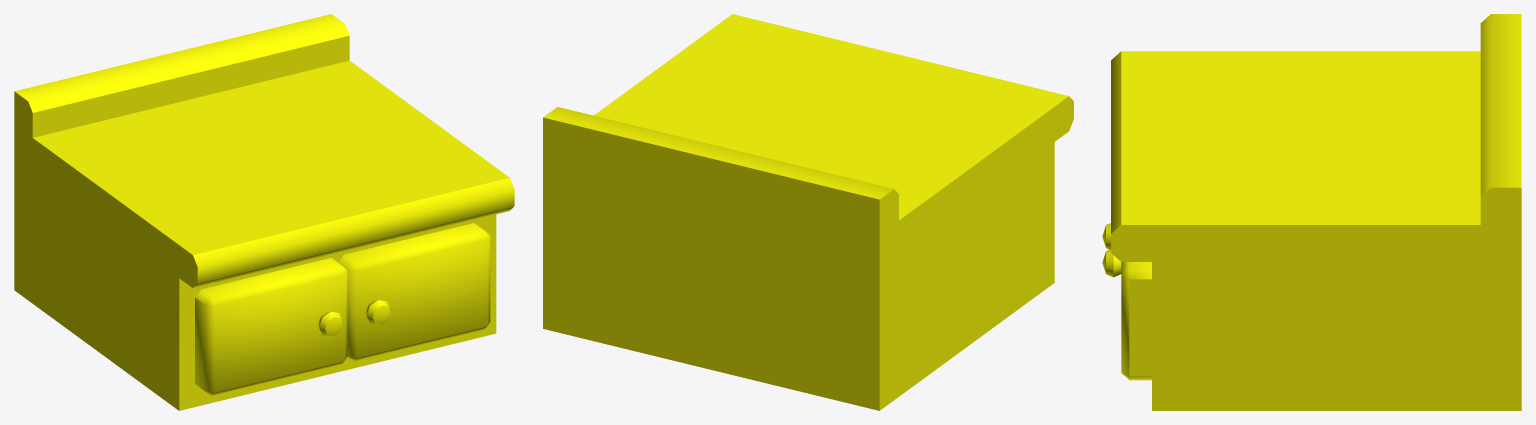
File: kitchencounter_straight_B_backsplash.gltf
3 renders of one model, left to right at view 1: azimuth 30°, elevation 25°; view 2: azimuth 150°, elevation 25°; view 3: azimuth 270°, elevation 25°, orthographic. The views are drawn at different scales.
Parts seen in each view (by area): view 1: kitchencounter_straight_B_backsplash; view 2: kitchencounter_straight_B_backsplash; view 3: kitchencounter_straight_B_backsplash.
Boxes of the visible parts, x1,y1,x2,y2 form: kitchencounter_straight_B_backsplash: [14, 14, 514, 410]; kitchencounter_straight_B_backsplash: [543, 14, 1073, 410]; kitchencounter_straight_B_backsplash: [1102, 14, 1521, 410].
Size of the model in its own units: 2 by 1.2 by 2.04.
1 material, 1 textured.
